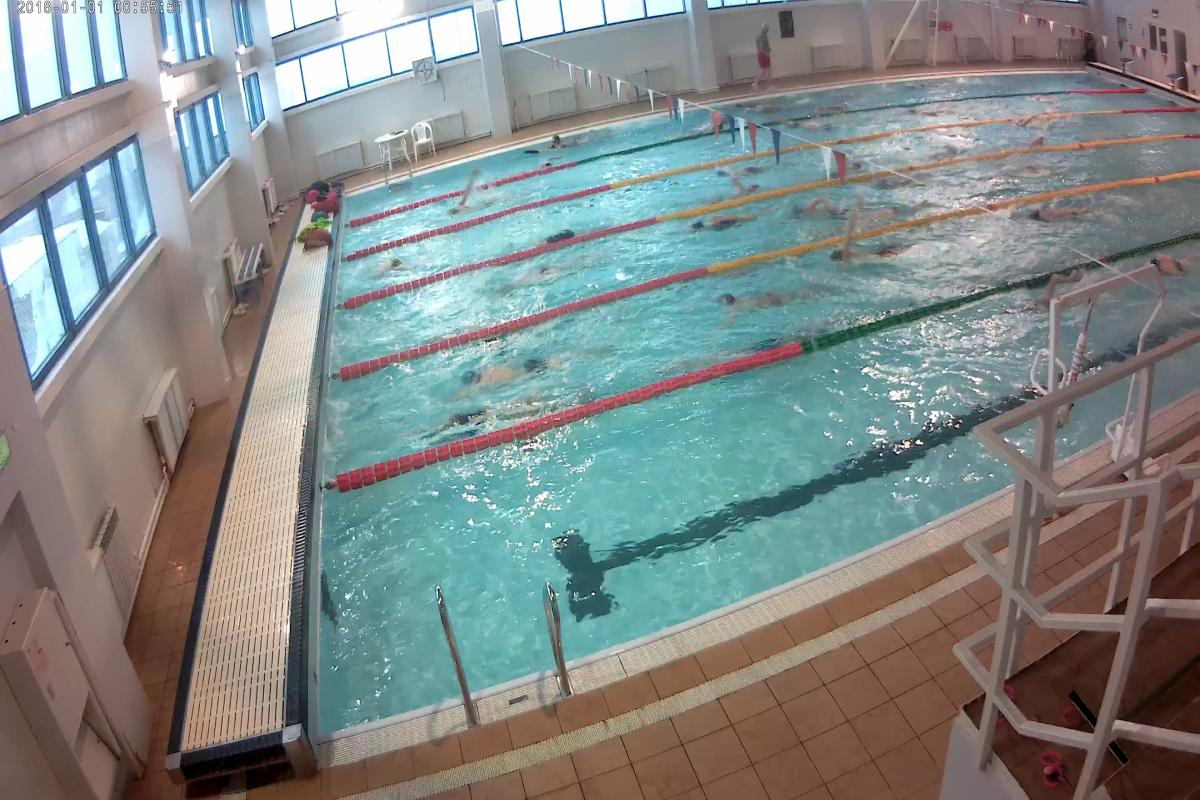swimmer: (462, 350, 570, 393), (722, 276, 805, 325), (829, 234, 915, 264), (684, 211, 758, 236), (1016, 202, 1097, 224), (786, 196, 842, 220)
